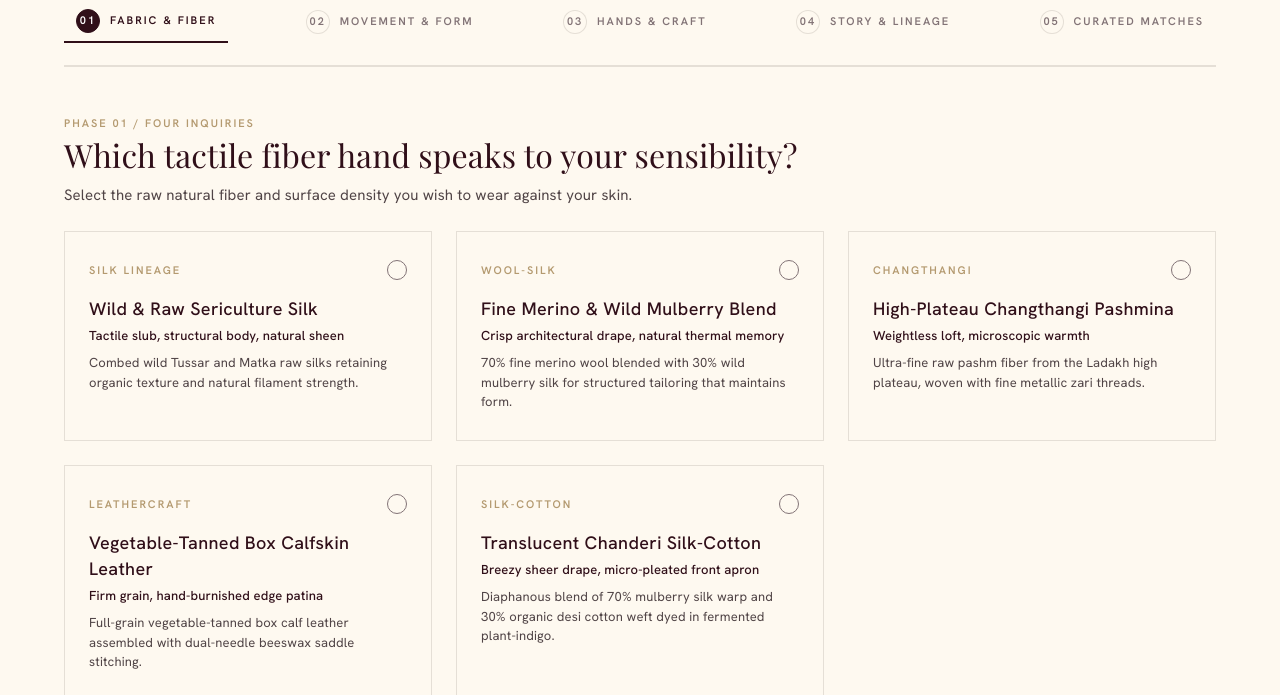
Scenario: Stage 3.4 Thread Compass Implementation Tests › 2. Guided Consultation Stepper & State Navigation › allows jumping back to a completed step via the stepper pills
(page scrolled)
Click the radio button with test id "option-fabric-pashmina". click: (1032, 336)
box: [848,231,1216,441]
(page scrolled)
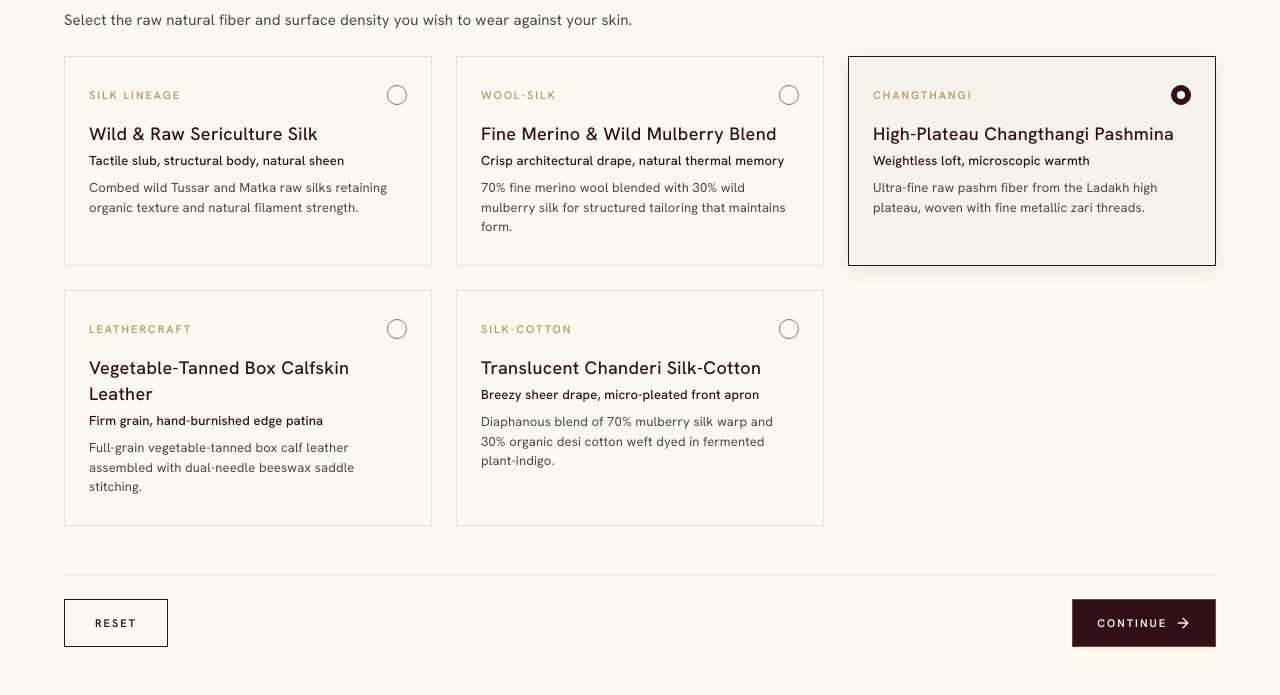
Click the button with test id "step-continue-btn". click: (1144, 623)
box: [1072,599,1216,647]
(page scrolled)
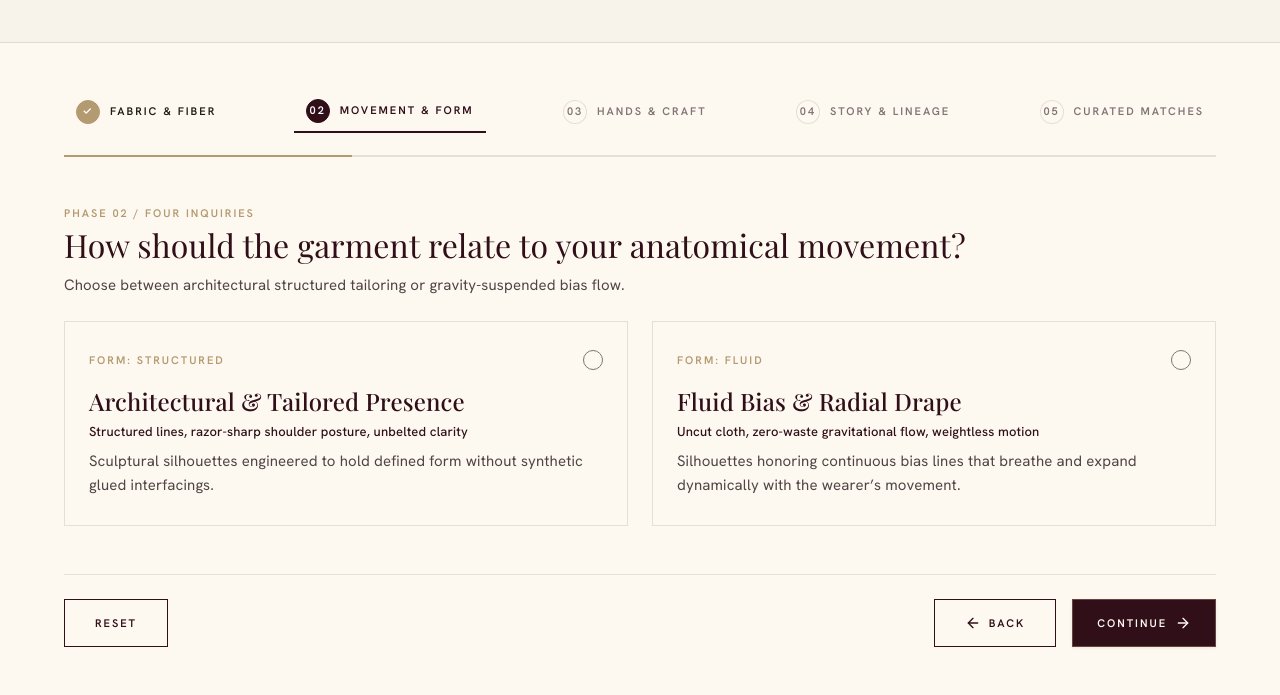
Result: the element with test id "compass-step-2" is shown at [64,205,1216,526]
Click Step 1 in stepper
Click the button with test id "stepper-pill-1". click: (146, 112)
box: [64,92,228,132]
(page scrolled)
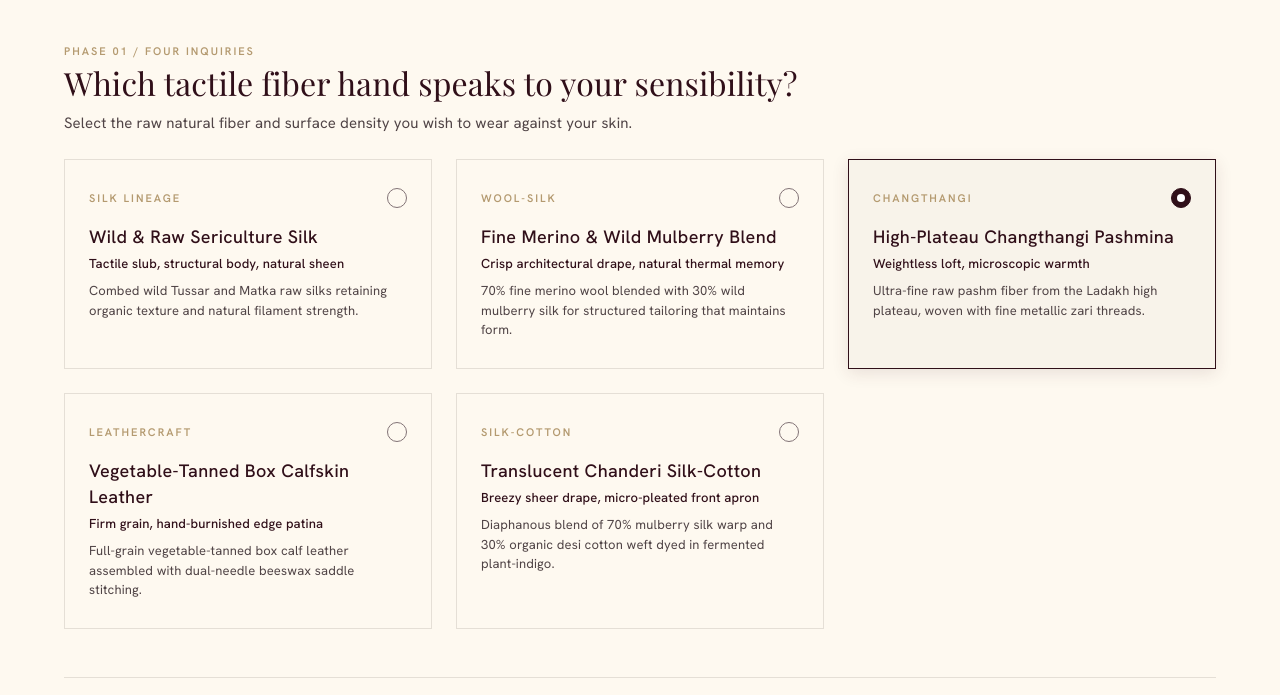
Result: the element with test id "compass-step-1" is shown
